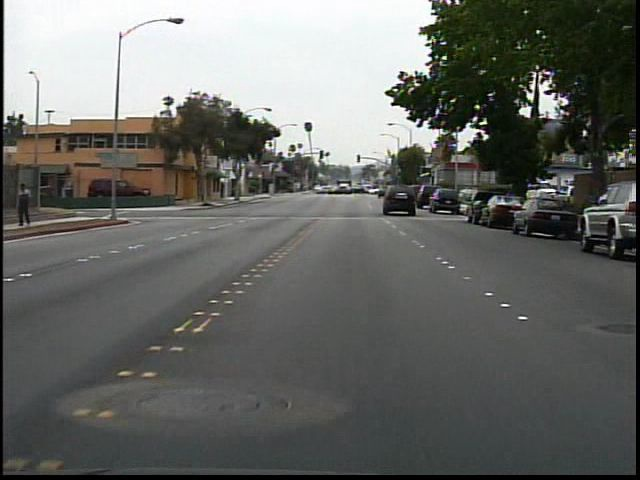person: (15, 180, 40, 231)
